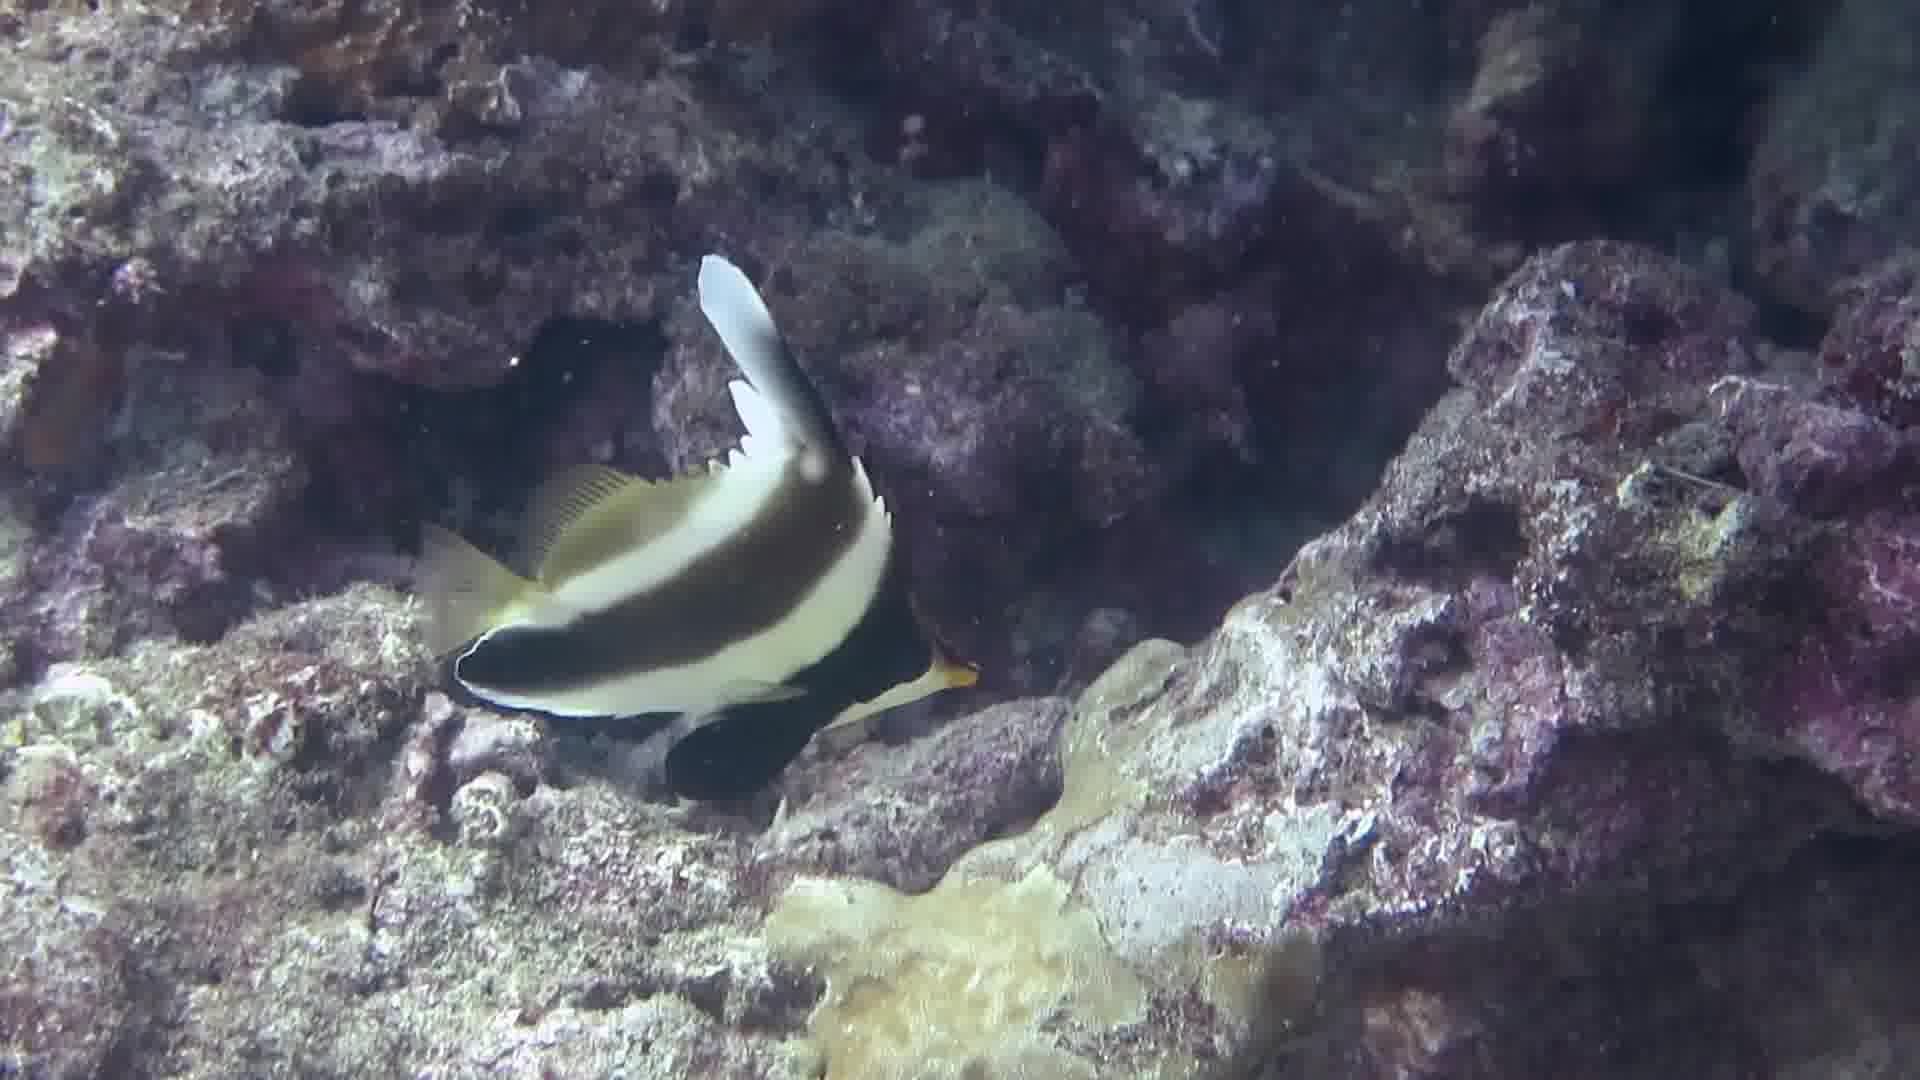Heniochus chrysostomus: (381, 220, 1026, 808)
